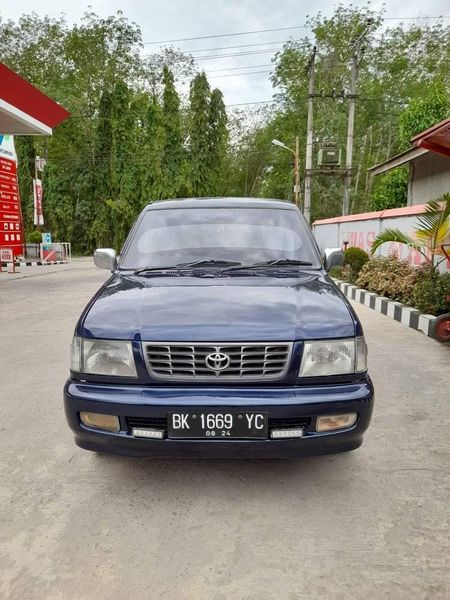plate: (163, 403, 274, 452)
